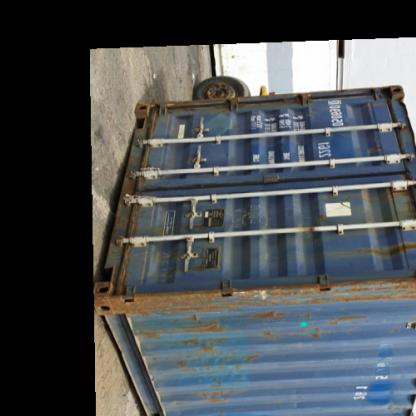Damage: (236, 272, 412, 325), (93, 278, 146, 318), (172, 308, 226, 342), (230, 197, 276, 235), (353, 237, 415, 265), (189, 386, 251, 413), (152, 242, 181, 280), (167, 356, 201, 380), (375, 390, 403, 416), (237, 347, 266, 370), (282, 388, 308, 412)
